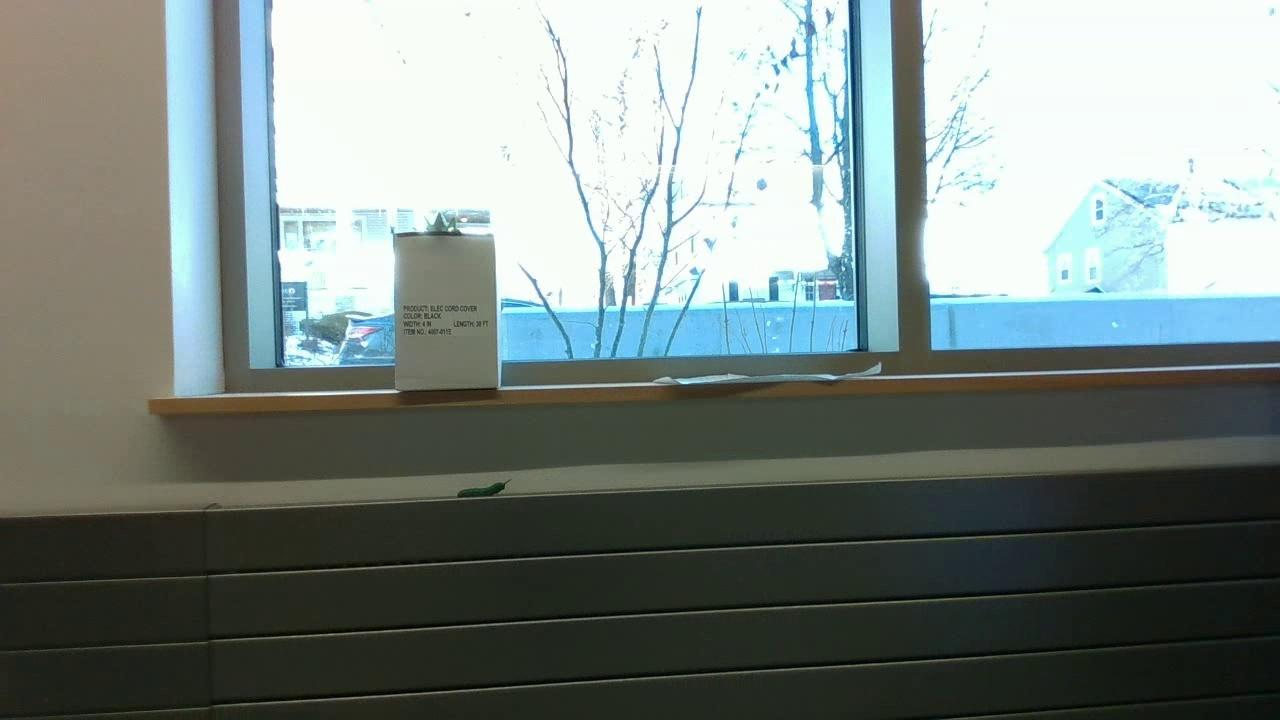grasshopper: (425, 214, 457, 233)
